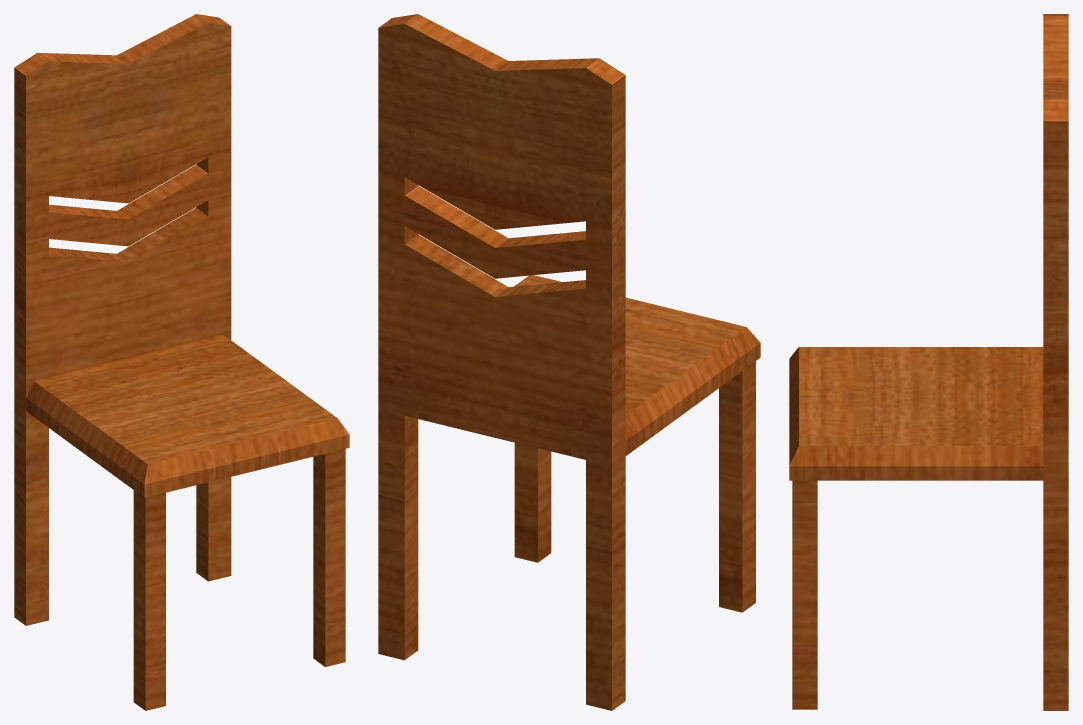
Rendered from chair.obj.
3 renders of one model, left to right at view 1: azimuth 30°, elevation 25°; view 2: azimuth 150°, elevation 25°; view 3: azimuth 270°, elevation 25°, orthographic. The views are drawn at different scales.
Parts seen in each view (by area): view 1: Chair.001_Plane.002; view 2: Chair.001_Plane.002; view 3: Chair.001_Plane.002.
Part boxes in pixels (<box>): Chair.001_Plane.002: <box>14,14,349,710</box>; Chair.001_Plane.002: <box>378,14,760,710</box>; Chair.001_Plane.002: <box>789,14,1068,710</box>.
Bounding box in the file's own units: 4 × 10.41 × 4.4.
